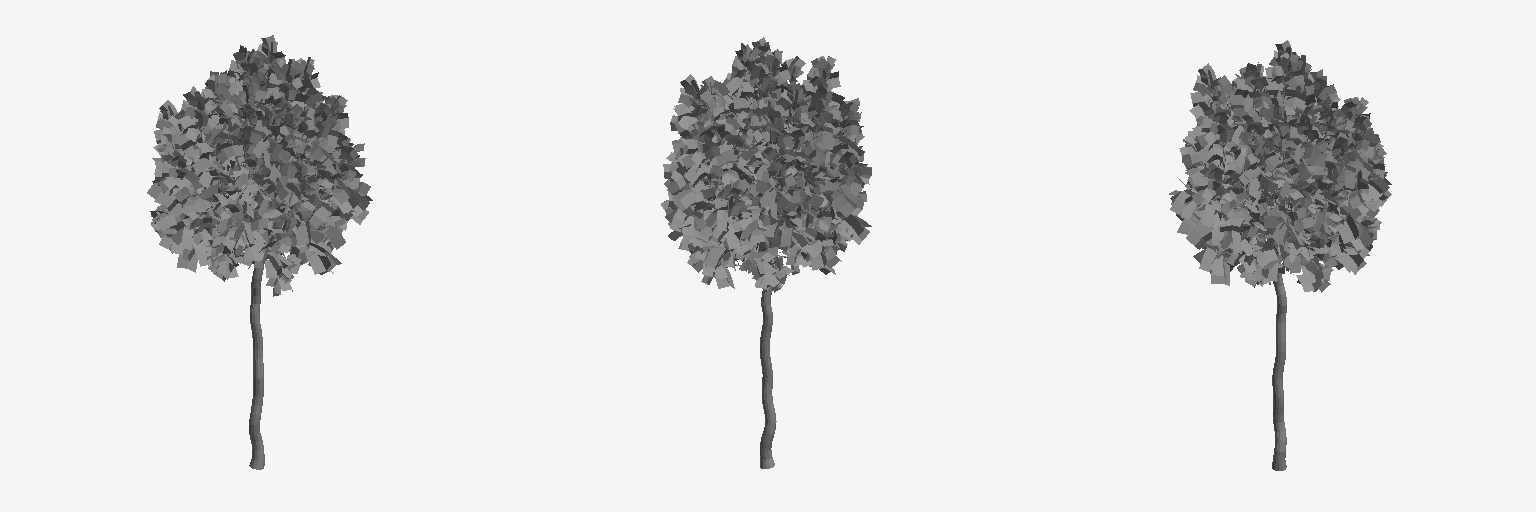
File: OBJ_LS06_CarpinusBetulus_1.obj
3 views of the same model, side by side, from view 1: azimuth 30°, elevation 25°; view 2: azimuth 150°, elevation 25°; view 3: azimuth 270°, elevation 25° (orthographic).
Visible parts, largest first — view 1: OBJ_LS06_CarpinusBetulus_1; view 2: OBJ_LS06_CarpinusBetulus_1; view 3: OBJ_LS06_CarpinusBetulus_1.
Part boxes in pixels (x1,y1,x2,y2): OBJ_LS06_CarpinusBetulus_1: (147,35,372,469); OBJ_LS06_CarpinusBetulus_1: (661,37,871,468); OBJ_LS06_CarpinusBetulus_1: (1169,40,1391,470).
Size of the model in its own units: 116 by 251 by 121.